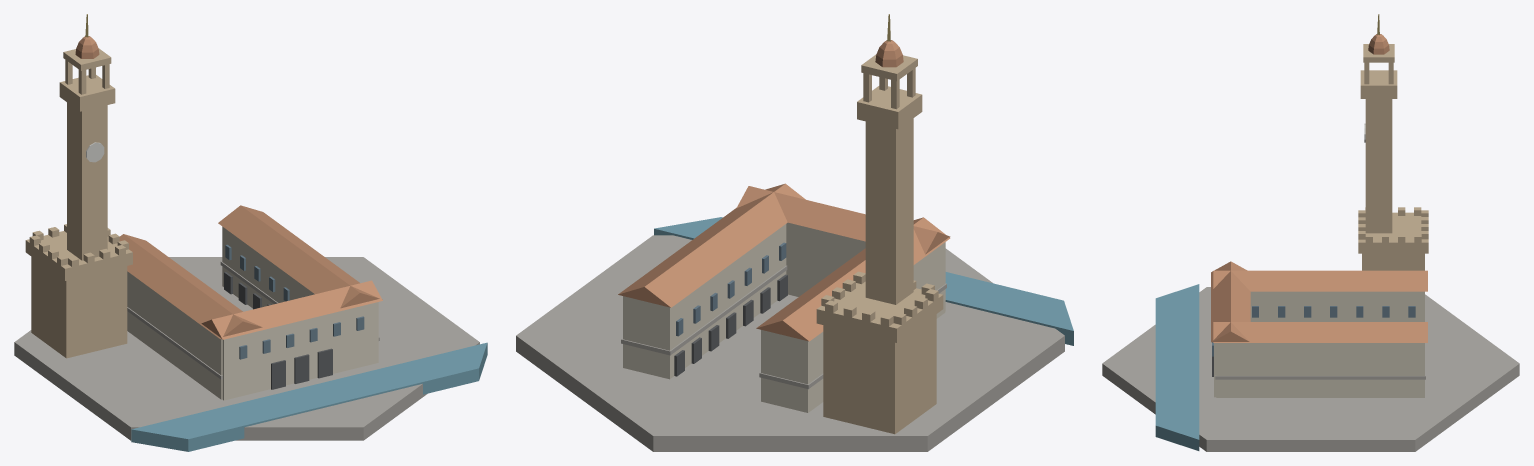
Rendered from uffizi.glb.
3 views of the same model, side by side, from view 1: azimuth 30°, elevation 25°; view 2: azimuth 150°, elevation 25°; view 3: azimuth 270°, elevation 25° (orthographic). The views are drawn at different scales.
Visible parts, largest first — view 1: LOD0; view 2: LOD0; view 3: LOD0.
Part boxes in pixels (x1,y1,x2,y2): LOD0: [14, 14, 487, 451]; LOD0: [516, 14, 1073, 451]; LOD0: [1102, 14, 1519, 451].
Size of what is drawn, in the model's own units: 1.52 by 1.4 by 1.72.
